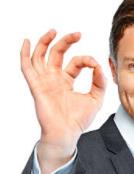left: (17, 26, 107, 133)
